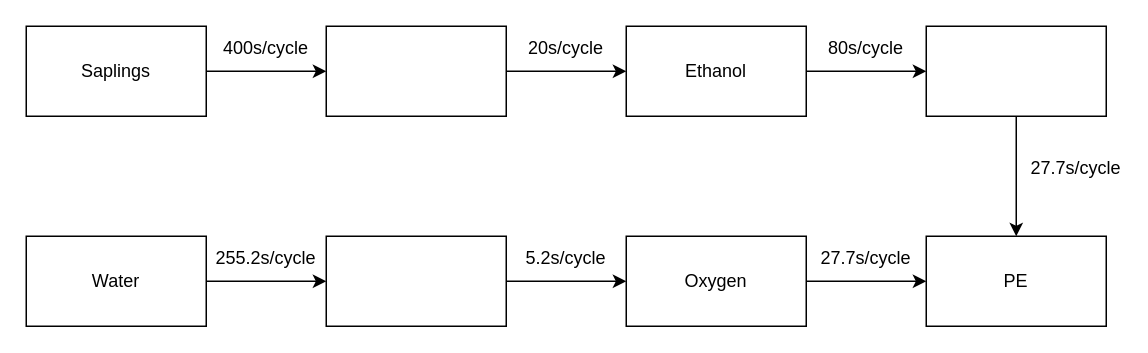
This 1148x353 diagram has some shape labels left out. The centre of each missing label's shape, as x and y in pixels:
"Biomass" goes at [415,70].
"Electrolyzed Water" goes at [415,280].
"Ethylene" goes at [1015,70].
